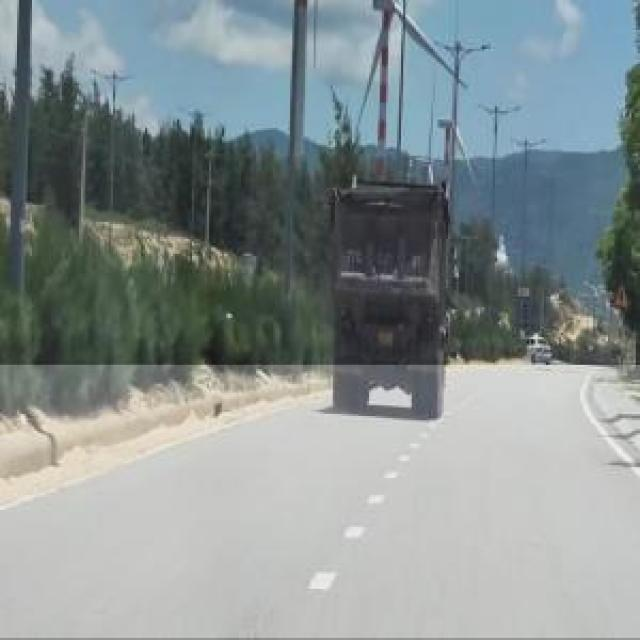clear-road: (0, 366, 640, 638)
